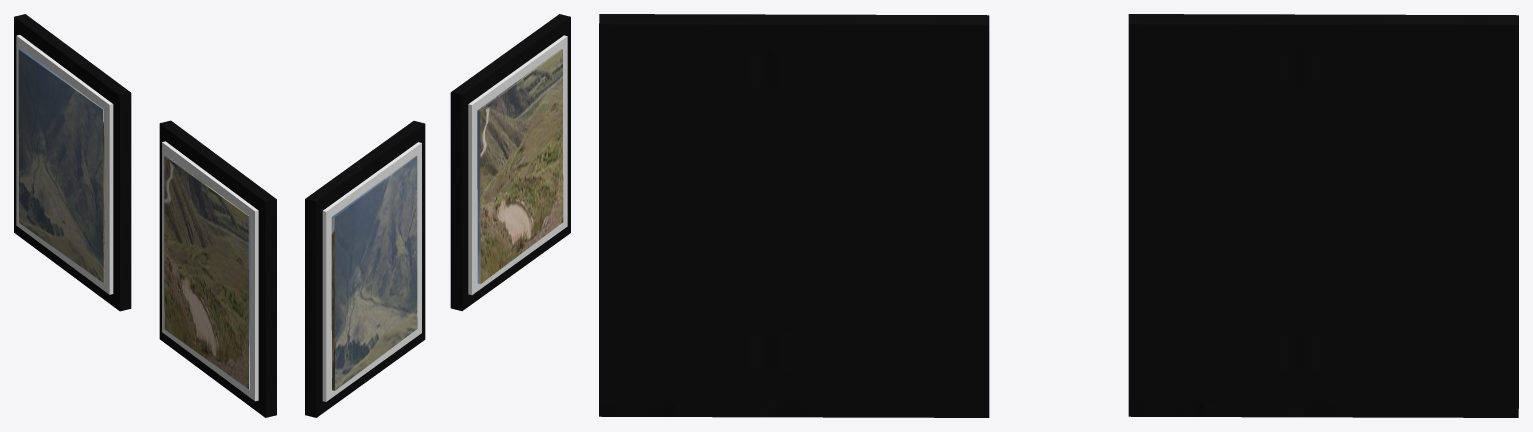
File: cuadros2.obj
3 renders of one model, left to right at view 1: azimuth 30°, elevation 25°; view 2: azimuth 150°, elevation 25°; view 3: azimuth 270°, elevation 25°, orthographic. The views are drawn at different scales.
Parts seen in each view (by area): view 1: pasted__polySurface10; view 2: pasted__polySurface10; view 3: pasted__polySurface10.
Part boxes in pixels (bbox=[...]): pasted__polySurface10: bbox=[14, 14, 276, 417]; pasted__polySurface10: bbox=[305, 14, 570, 417]; pasted__polySurface10: bbox=[599, 14, 1518, 417].
Size of the model in its own units: 0.6387 by 7.25 by 15.4.
Materials: 6 (6 with a texture image).
